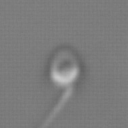abnormal: (39, 81, 84, 127)
